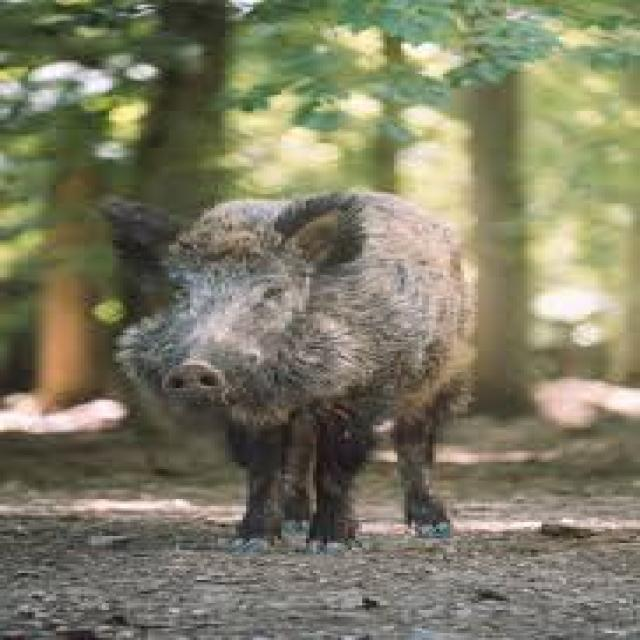Boar: (116, 194, 462, 552)
